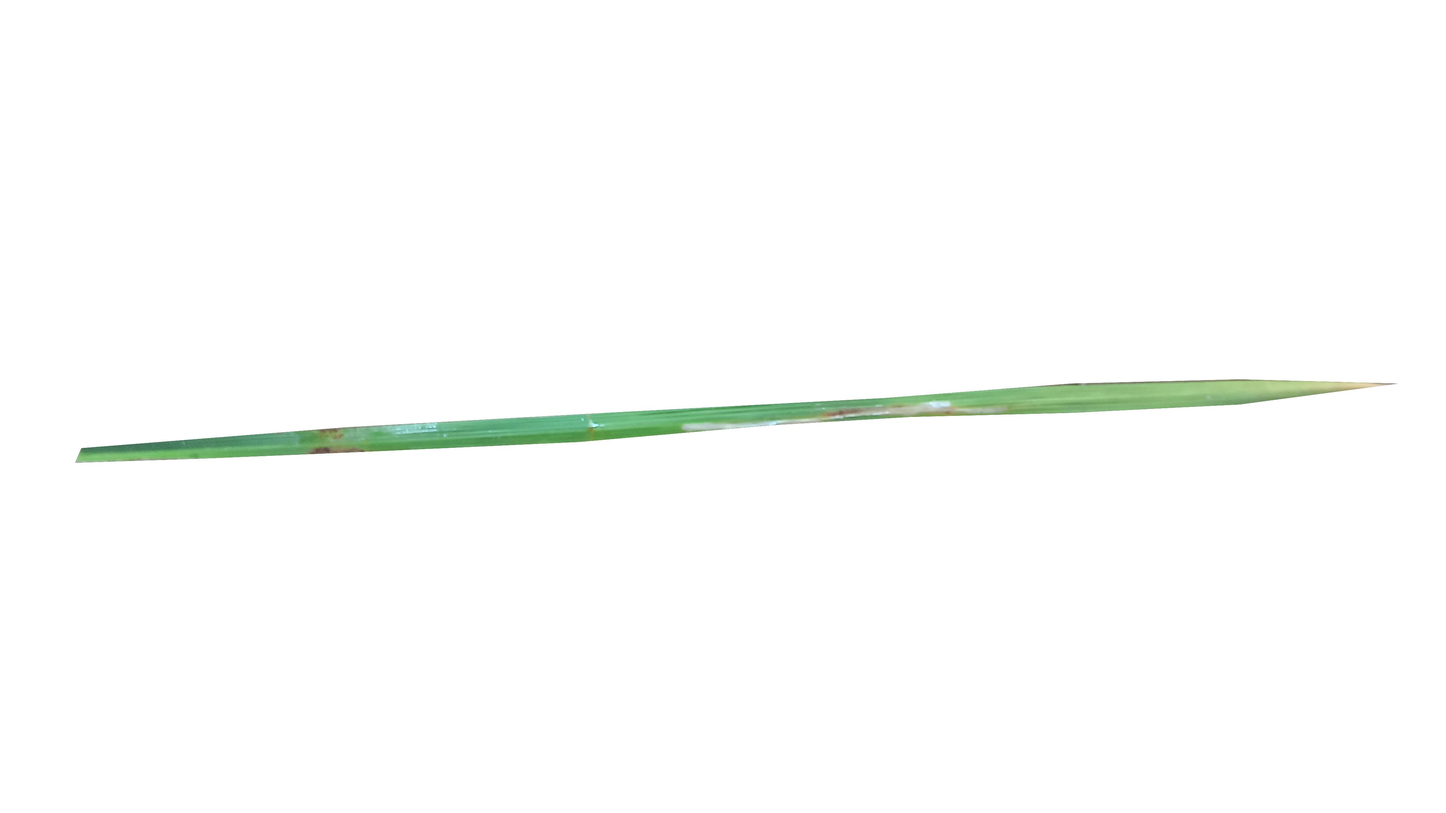Rice blast: (796, 400, 1013, 419), (306, 427, 348, 452)
